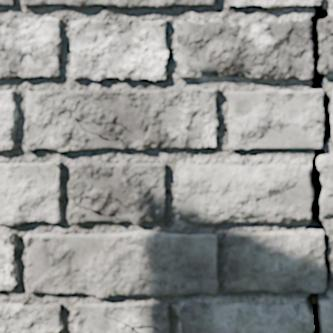brick: (25, 231, 218, 297), (25, 88, 218, 151), (228, 231, 325, 293), (70, 19, 168, 80), (68, 162, 165, 223), (229, 89, 323, 148), (0, 162, 61, 224), (0, 18, 61, 77), (72, 302, 169, 332), (0, 303, 63, 332), (21, 0, 214, 7), (0, 230, 19, 289), (0, 91, 17, 149), (228, 0, 320, 6), (0, 0, 14, 4), (331, 112, 332, 125)
broken_brick: (176, 18, 311, 80), (177, 162, 311, 223), (179, 300, 310, 332), (318, 154, 332, 215), (319, 13, 332, 74), (321, 297, 332, 332)
crack: (304, 0, 332, 332), (68, 191, 127, 218), (103, 314, 158, 332), (35, 164, 47, 200), (54, 161, 62, 169)
